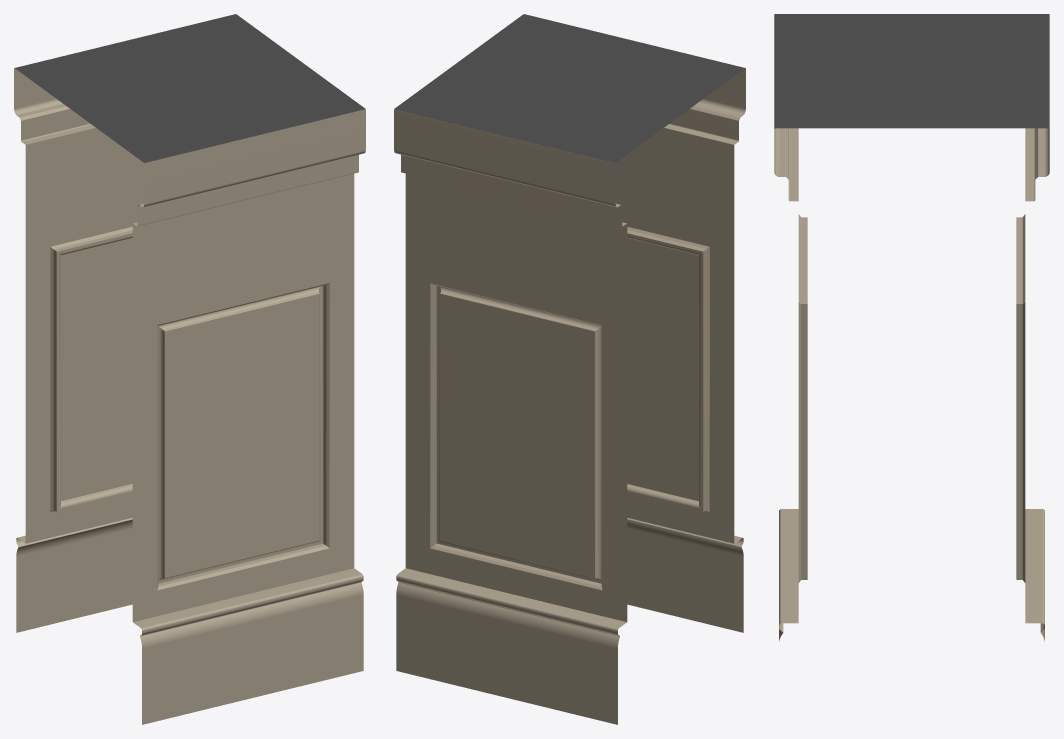
Rendered from Wallset_02.1.05.fbx.
3 renders of one model, left to right at view 1: azimuth 30°, elevation 25°; view 2: azimuth 150°, elevation 25°; view 3: azimuth 270°, elevation 25°, orthographic. The views are drawn at different scales.
Visible parts, largest first — view 1: polySurface24; view 2: polySurface24; view 3: polySurface24.
Part boxes in pixels (left/top/right/bottom): polySurface24: left=14, top=14, right=365, bottom=724; polySurface24: left=394, top=14, right=745, bottom=724; polySurface24: left=774, top=14, right=1049, bottom=641.
Bounding box in the file's own units: 100 × 243 × 102.
